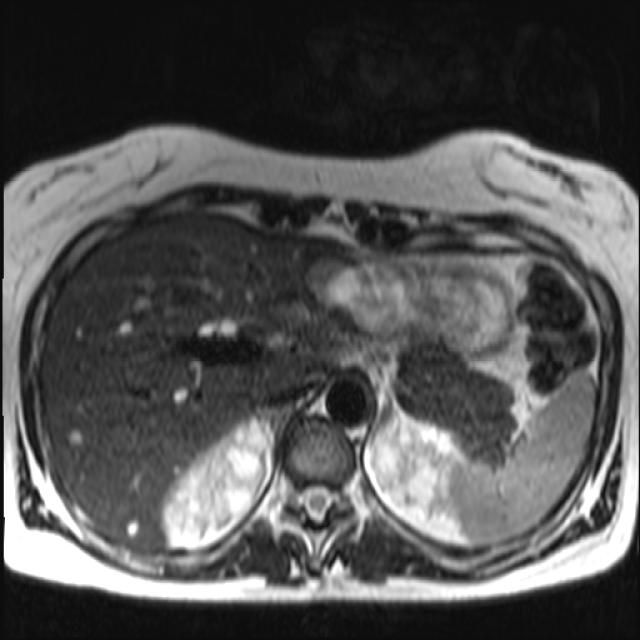sag: (165, 422, 270, 544)
sol: (372, 419, 463, 540)
